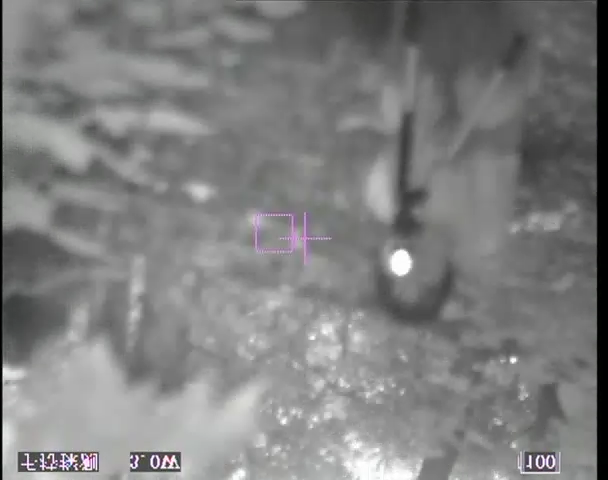my: (390, 248, 415, 276)
